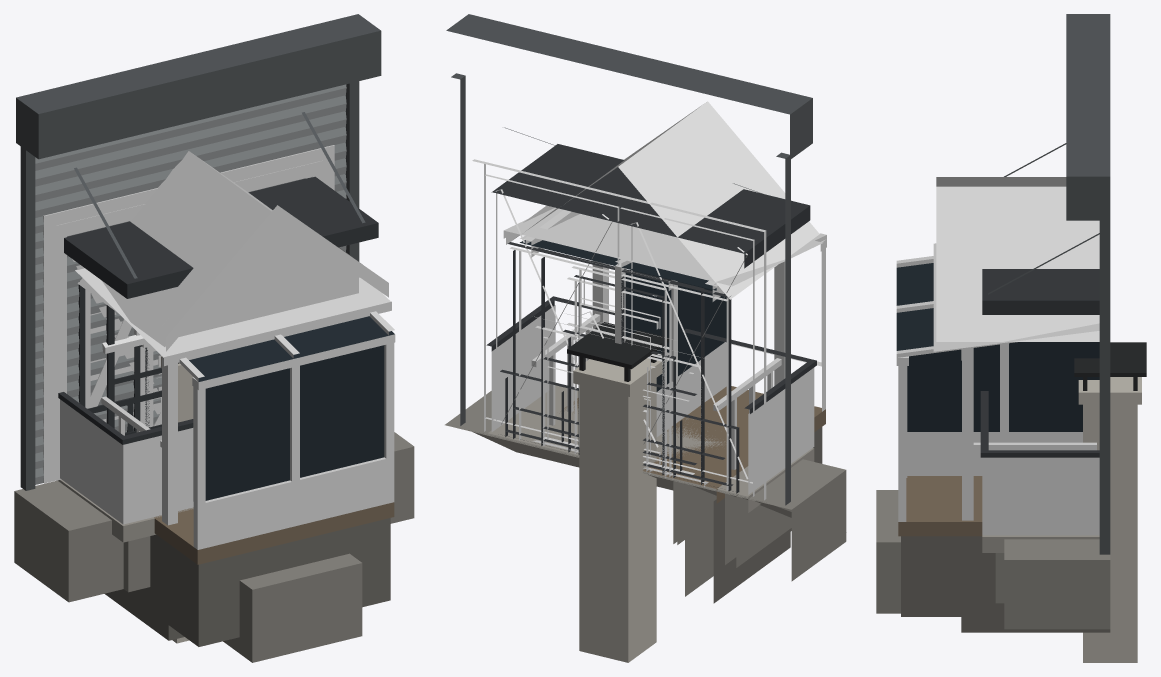
3 views of the same model, side by side, from view 1: azimuth 30°, elevation 25°; view 2: azimuth 150°, elevation 25°; view 3: azimuth 270°, elevation 25° (orthographic). The views are drawn at different scales.
Parts seen in each view (by area): view 1: roller_door__fixed, veranda__glass, veranda__fixed, veranda__trim, entrance__fixed, porch__roof, porch__fixed, barn_door__trim, balcony__accent, porch__trim, porch__wall, porch_low__roof (+6 smaller); view 2: chimney__fixed, roller_door__fixed, entrance__fixed, porch__roof, balcony__accent, porch_low__roof, balcony__fixed, barn_door__trim, porch__trim, veranda_side__glass, porch__fixed, veranda_side__trim (+16 smaller); view 3: roller_door__fixed, porch__roof, veranda_side__glass, chimney__fixed, veranda__fixed, balcony__accent, entrance__fixed, porch__fixed, veranda_side__trim, porch__trim, veranda__glass, veranda__trim (+3 smaller).
Part boxes in pixels (x1=…): roller_door__fixed: x1=14, y1=14, x2=414, y2=602; veranda__glass: x1=189, y1=316, x2=394, y2=500; veranda__fixed: x1=121, y1=502, x2=394, y2=646; veranda__trim: x1=179, y1=311, x2=395, y2=549; entrance__fixed: x1=64, y1=112, x2=378, y2=592; porch__roof: x1=77, y1=151, x2=272, y2=346; porch__fixed: x1=104, y1=519, x2=362, y2=662; barn_door__trim: x1=43, y1=145, x2=334, y2=483; balcony__accent: x1=60, y1=399, x2=193, y2=524; porch__trim: x1=101, y1=205, x2=388, y2=525; porch__wall: x1=162, y1=220, x2=359, y2=325; porch_low__roof: x1=75, y1=268, x2=390, y2=357; chimney__fixed: x1=567, y1=322, x2=668, y2=662; roller_door__fixed: x1=445, y1=14, x2=846, y2=581; entrance__fixed: x1=492, y1=127, x2=810, y2=567; porch__roof: x1=511, y1=101, x2=819, y2=299; balcony__accent: x1=491, y1=305, x2=814, y2=494; porch_low__roof: x1=504, y1=207, x2=823, y2=286; balcony__fixed: x1=486, y1=296, x2=816, y2=512; barn_door__trim: x1=472, y1=159, x2=766, y2=500; porch__trim: x1=506, y1=205, x2=785, y2=469; veranda_side__glass: x1=625, y1=270, x2=726, y2=391; porch__fixed: x1=574, y1=400, x2=790, y2=603; veranda_side__trim: x1=615, y1=263, x2=726, y2=437; roller_door__fixed: x1=1004, y1=14, x2=1110, y2=629; porch__roof: x1=936, y1=177, x2=1099, y2=341; veranda_side__glass: x1=907, y1=342, x2=1099, y2=431; chimney__fixed: x1=1074, y1=342, x2=1146, y2=662; veranda__fixed: x1=898, y1=476, x2=1004, y2=616; balcony__accent: x1=982, y1=457, x2=1099, y2=535; entrance__fixed: x1=982, y1=143, x2=1099, y2=603; porch__fixed: x1=876, y1=476, x2=1110, y2=632; veranda_side__trim: x1=907, y1=343, x2=1082, y2=475; porch__trim: x1=962, y1=348, x2=1096, y2=520; veranda__glass: x1=896, y1=263, x2=933, y2=350; veranda__trim: x1=896, y1=256, x2=1017, y2=521.
Size of the model in its own units: 4.4 by 6.95 by 3.06.
